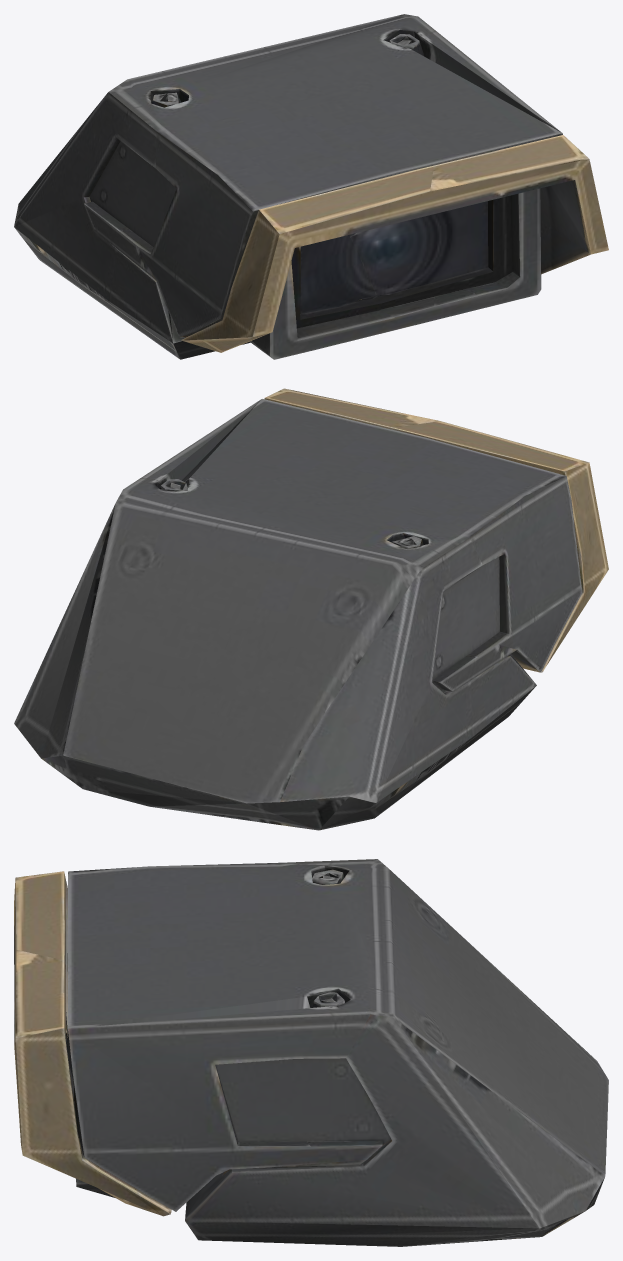
Rendered from imperial_point_defence_turret__sensor_head_lod1.glb.
3 views of the same model, one above another, from view 1: azimuth 30°, elevation 25°; view 2: azimuth 150°, elevation 25°; view 3: azimuth 270°, elevation 25° (orthographic). The views are drawn at different scales.
Parts seen in each view (by area): view 1: mesh_node; view 2: mesh_node; view 3: mesh_node.
Boxes of the visible parts, x1,y1,x2,y2 form: mesh_node: [14, 14, 608, 359]; mesh_node: [14, 388, 608, 830]; mesh_node: [14, 859, 608, 1246].
Bounding box in the file's own units: 1.17 × 0.7932 × 1.56.
Materials: 1 (1 with a texture image).
